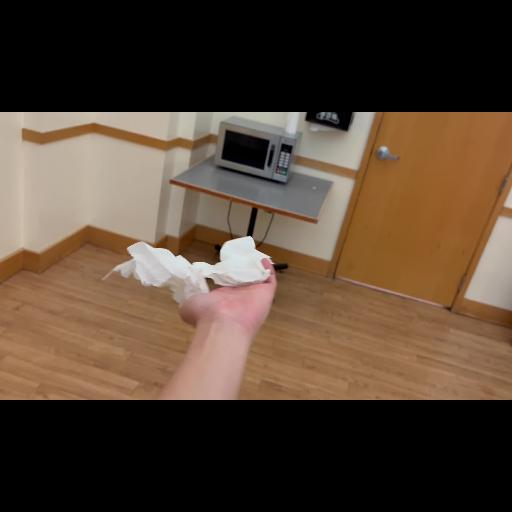napkin: (104, 234, 276, 302)
